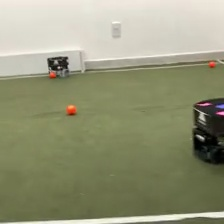ball: (66, 103, 77, 116), (49, 69, 57, 78), (208, 59, 216, 67)
goal: (1, 48, 86, 76)
robot: (189, 95, 224, 166), (45, 55, 71, 77)
